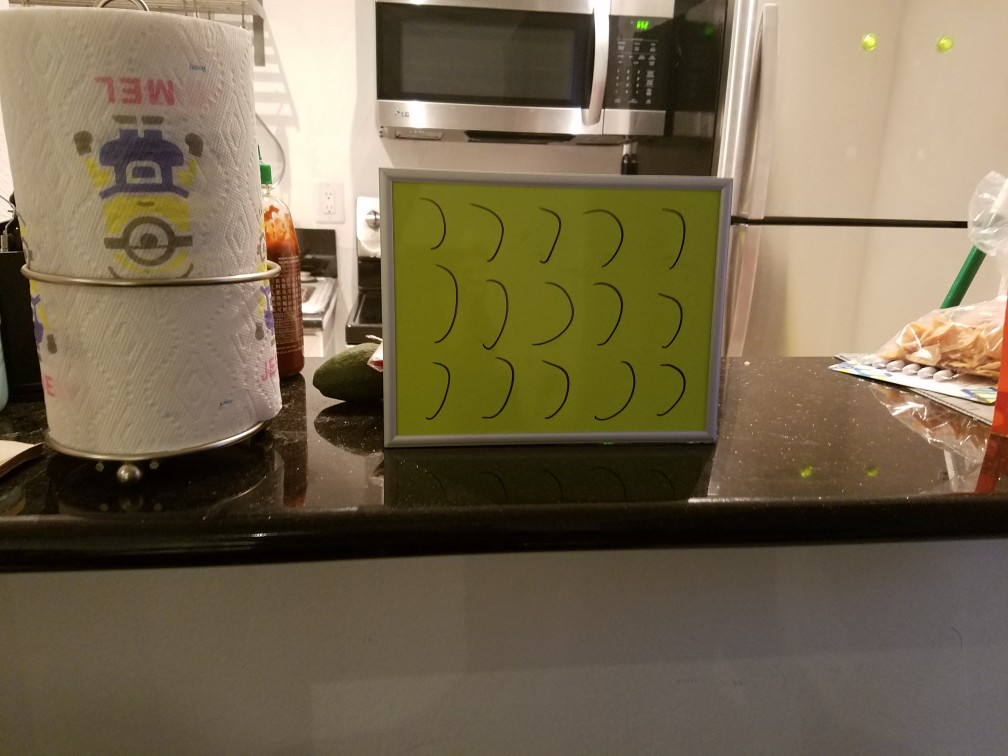): (591, 353, 642, 427), (585, 203, 636, 274), (532, 276, 579, 351), (421, 262, 460, 350), (654, 200, 694, 276), (585, 275, 624, 352), (530, 353, 570, 426), (647, 287, 687, 357), (483, 353, 520, 428), (479, 273, 513, 351), (650, 358, 688, 427), (470, 195, 507, 265), (413, 194, 452, 259), (415, 359, 453, 423), (539, 201, 565, 275)
